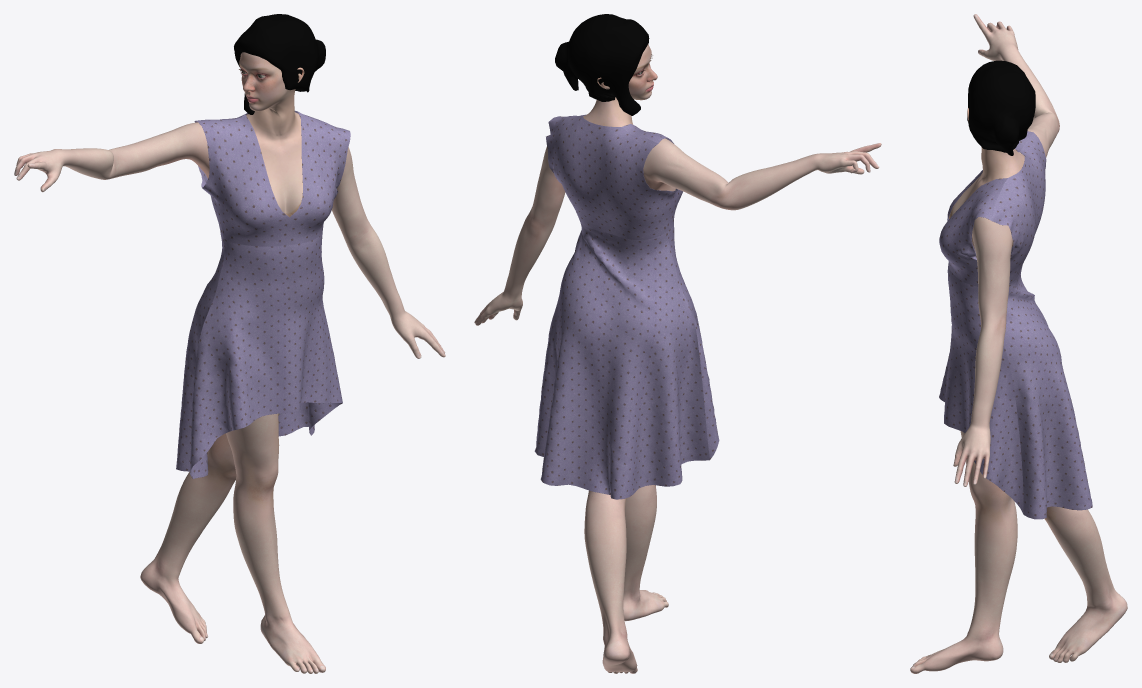
Rendered from Custom_View_1__Dynamic.obj.
The picture shows the model from 3 angles, left to right: view 1: azimuth 30°, elevation 25°; view 2: azimuth 150°, elevation 25°; view 3: azimuth 270°, elevation 25°; orthographic projection. The views are drawn at different scales.
Bounding box in the file's own units: 1226 × 1775 × 569.
